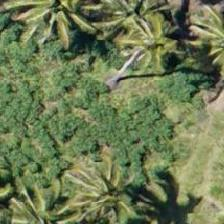coconut_tree: (105, 3, 195, 93), (58, 151, 148, 223), (80, 0, 170, 45), (0, 177, 87, 223)
